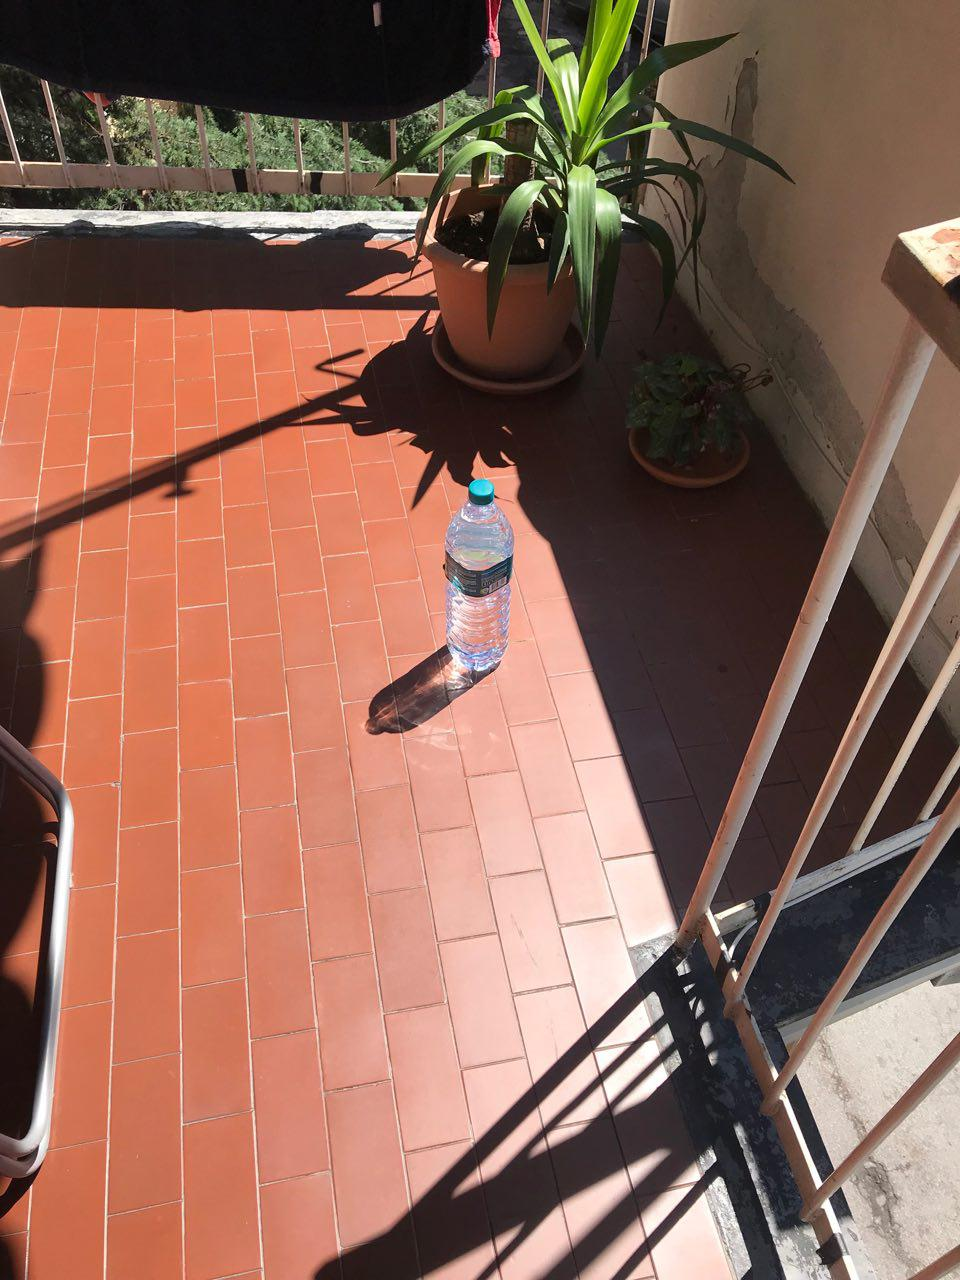san_bernardo: (444, 478, 515, 672)
